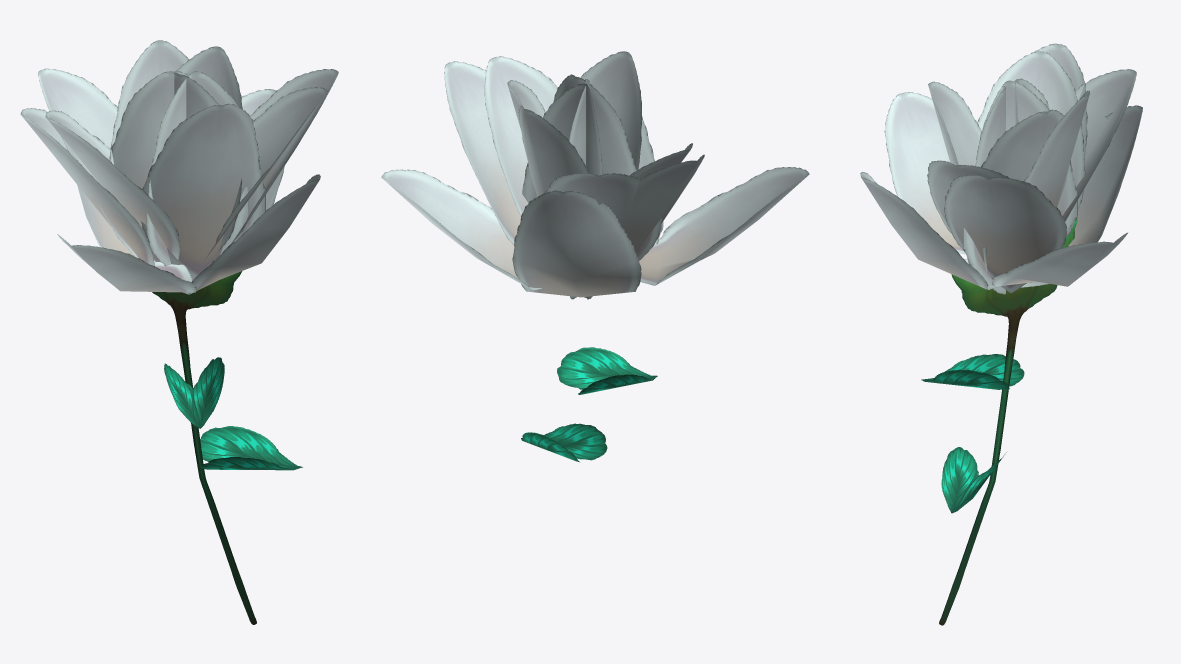
File: WhiteFlower_01.fbx
The picture shows the model from 3 angles, left to right: view 1: azimuth 30°, elevation 25°; view 2: azimuth 150°, elevation 25°; view 3: azimuth 270°, elevation 25°; orthographic projection. The views are drawn at different scales.
Parts seen in each view (by area): view 1: JasminePetal019; view 2: JasminePetal019; view 3: JasminePetal019.
Boxes of the visible parts, <box> form: JasminePetal019: <box>20,40,338,624</box>; JasminePetal019: <box>381,51,809,462</box>; JasminePetal019: <box>860,43,1142,625</box>.
Size of the model in its own units: 6.38 by 10.48 by 5.27.
